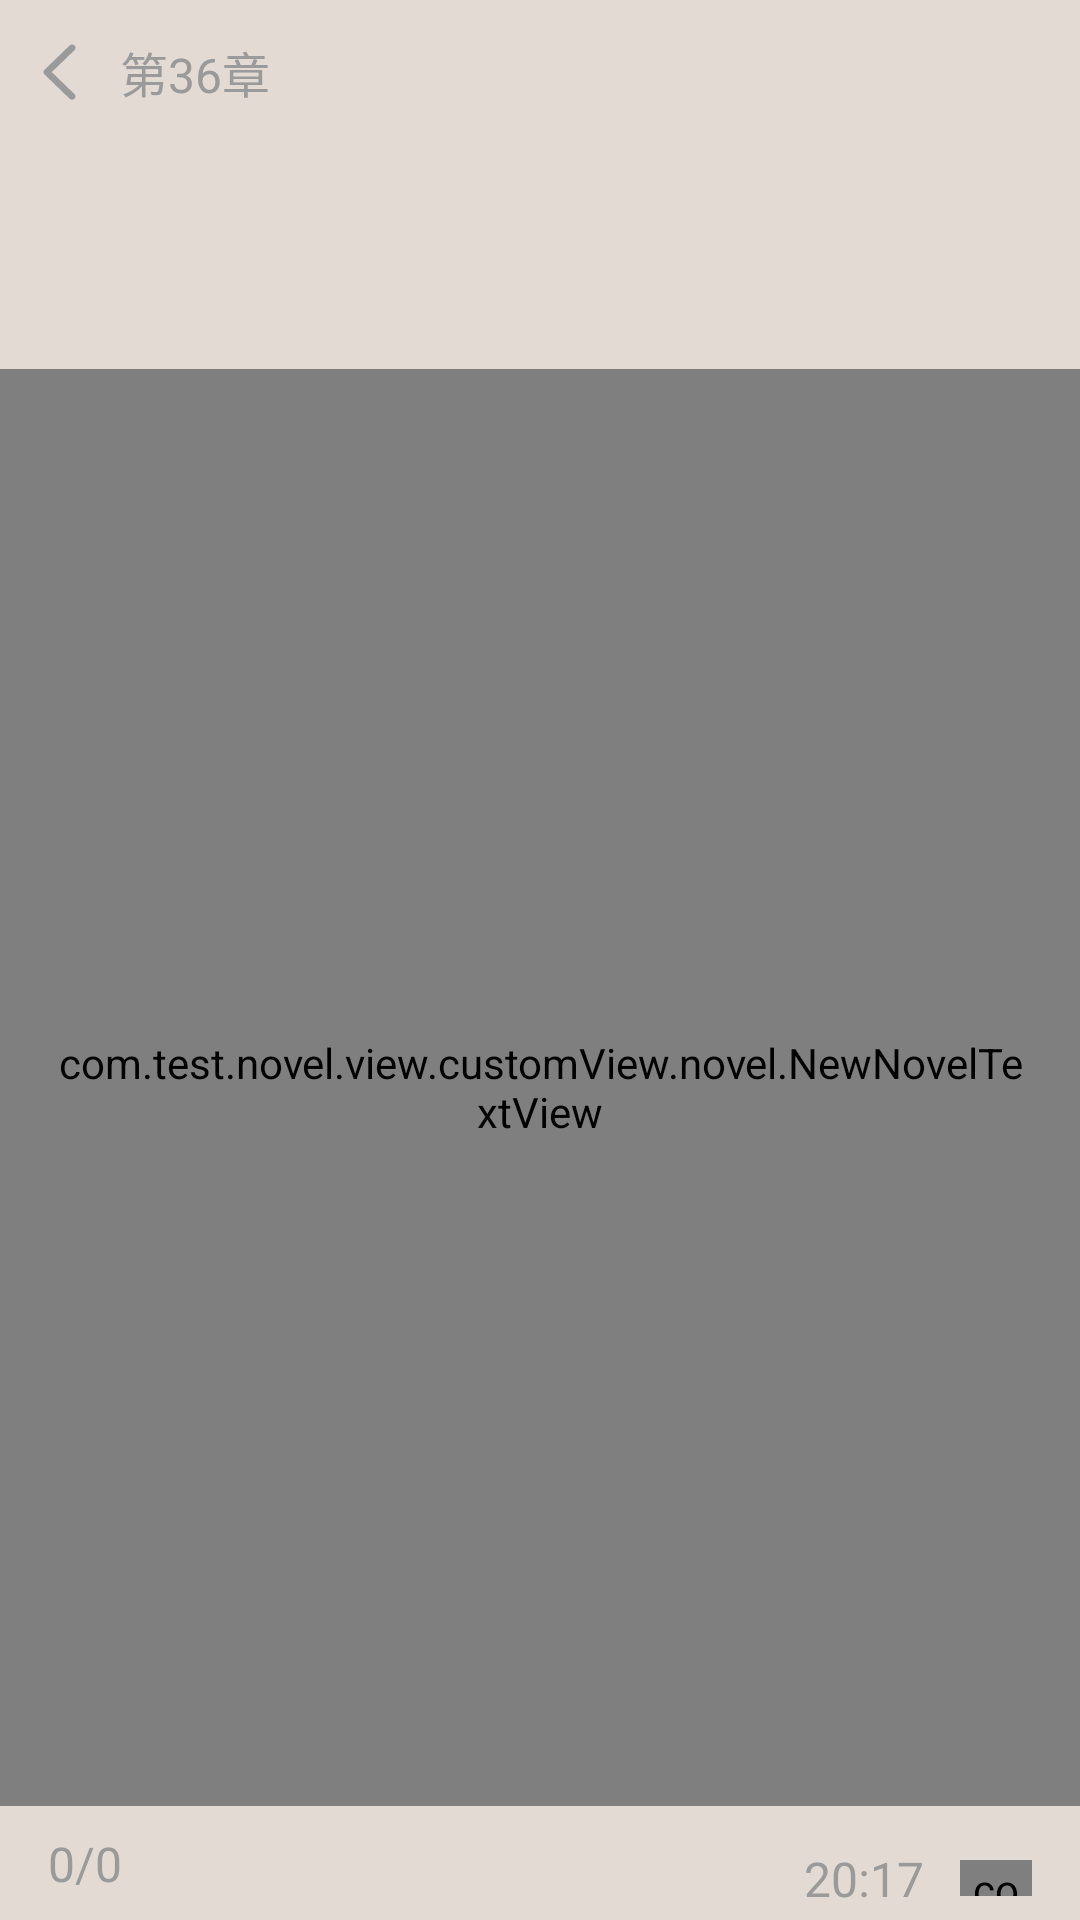

Named icons in this screenshot (1080px×1920px) and their bounding boxes, [x1=x1, y1=y1, x2=x2, y2=y2]:
topic back: [x1=43, y1=44, x2=76, y2=100]
